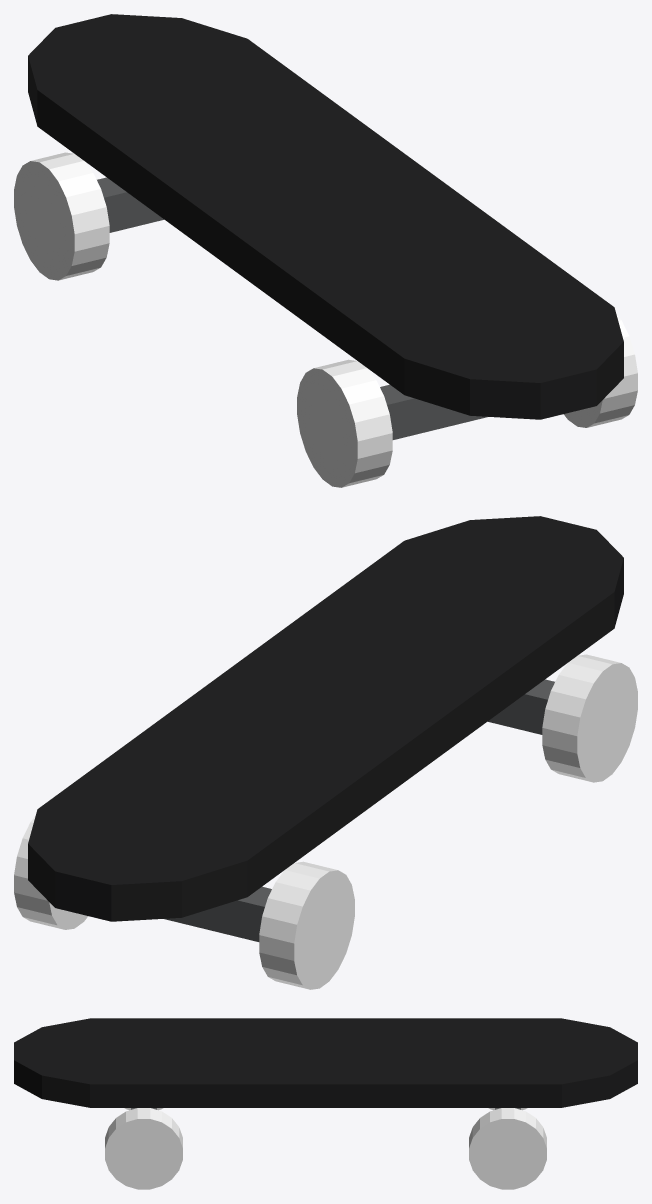
The model's file is skateboard_gus.gltf.
3 views of the same model, one above another, from view 1: azimuth 30°, elevation 25°; view 2: azimuth 150°, elevation 25°; view 3: azimuth 270°, elevation 25° (orthographic). The views are drawn at different scales.
Parts seen in each view (by area): view 1: cuboid (×3), cylinder (×5); view 2: cuboid (×3), cylinder (×5); view 3: cuboid, cylinder (×4).
Part boxes in pixels (x1,y1,x2,y2): cuboid (×3): (59, 54, 592, 439); cylinder (×5): (14, 14, 637, 487); cuboid (×3): (60, 557, 592, 941); cylinder (×5): (14, 516, 637, 989); cuboid: (118, 1018, 533, 1107); cylinder (×4): (14, 1018, 637, 1189).
Bounding box in the file's own units: 0.5 × 0.25 × 1.5.
1 material, 1 textured.
